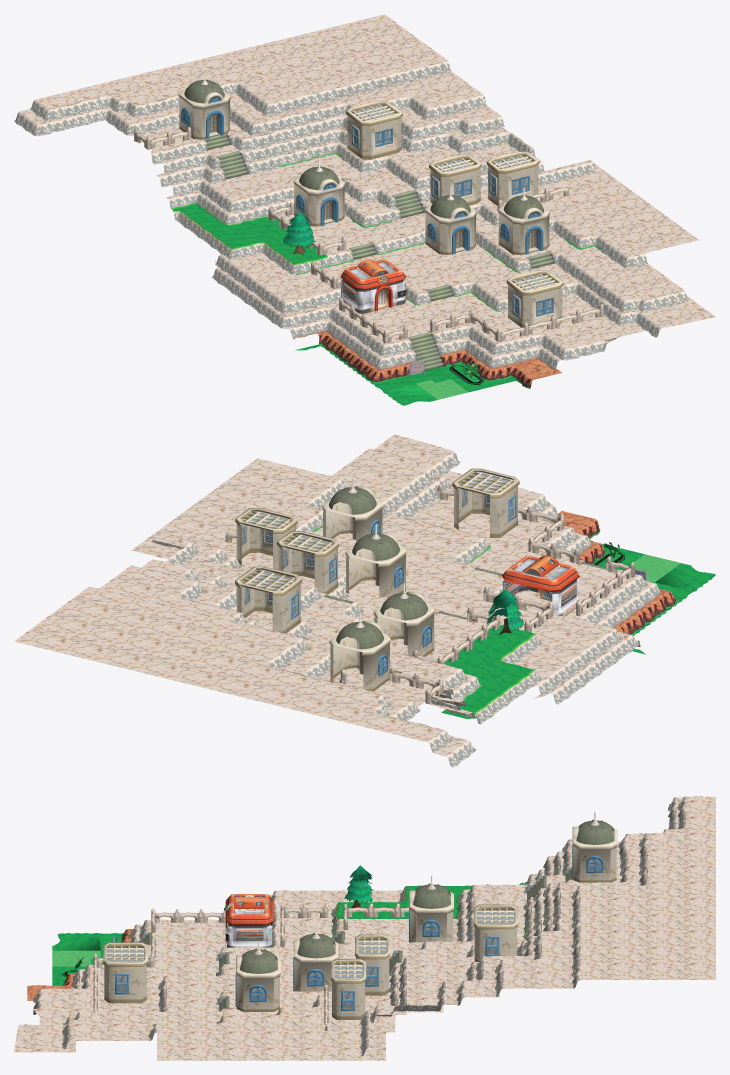
Rendered from TestTemple.obj.
3 renders of one model, top to bottom at view 1: azimuth 30°, elevation 25°; view 2: azimuth 150°, elevation 25°; view 3: azimuth 270°, elevation 25°, orthographic. The views are drawn at different scales.
Parts seen in each view (by area): view 1: C-Component120; view 2: C-Component120; view 3: C-Component120.
Boxes of the visible parts, x1,y1,x2,y2 form: C-Component120: (14,14,715,405); C-Component120: (14,434,715,767); C-Component120: (14,796,715,1060).
Size of the model in its own units: 48.47 by 15.03 by 64.33.
